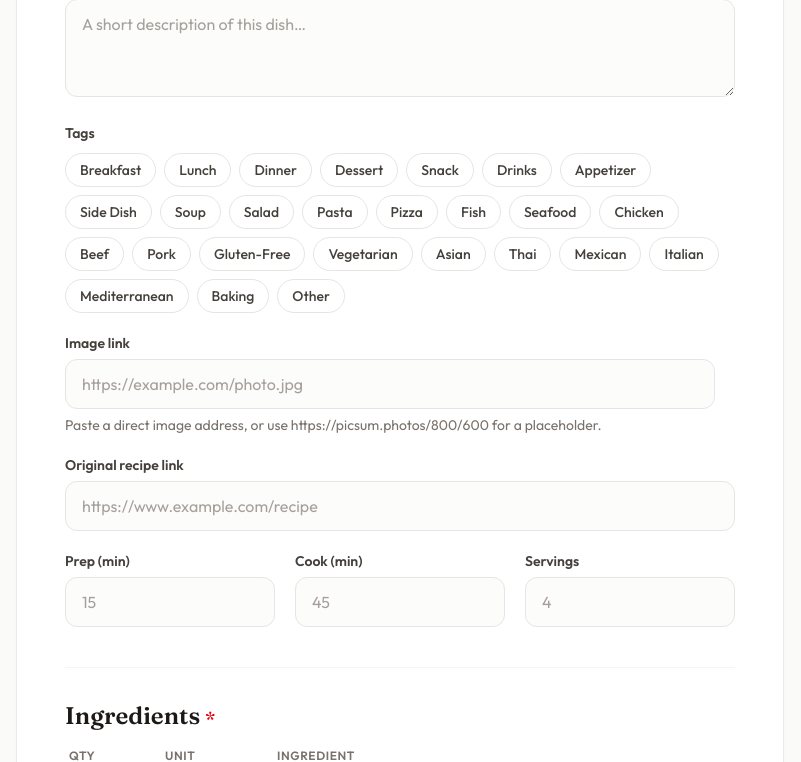
Scenario: new recipe › shows inline validation errors and does not submit
(page scrolled)
Type "javascript:alert(1)" into the field labelled "Image link" at (390, 384), box [65,359,715,409]
(page scrolled)
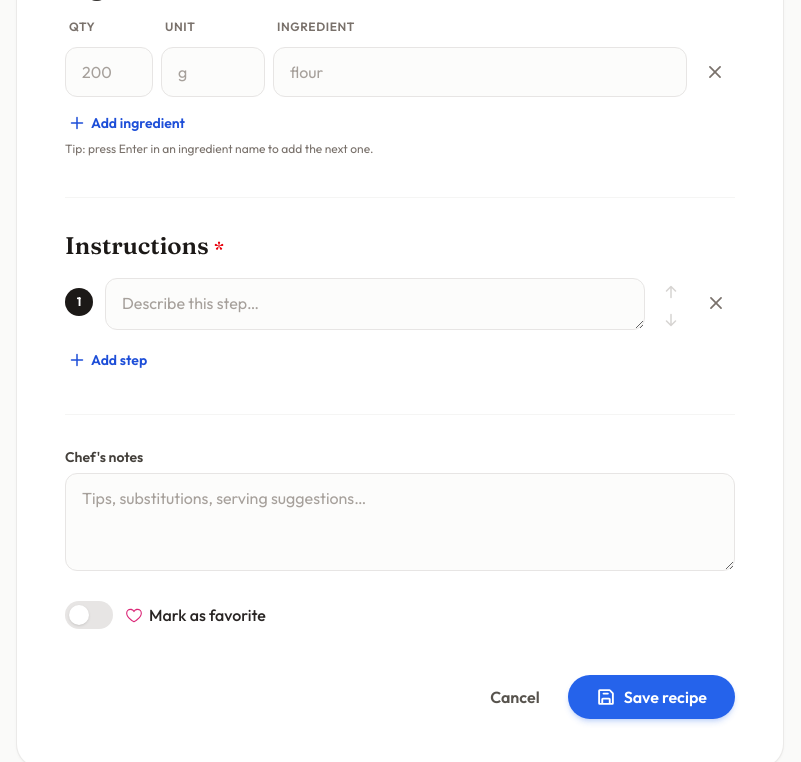
Click the button "Save recipe" at (651, 697), box [568,675,735,719]
(page scrolled)
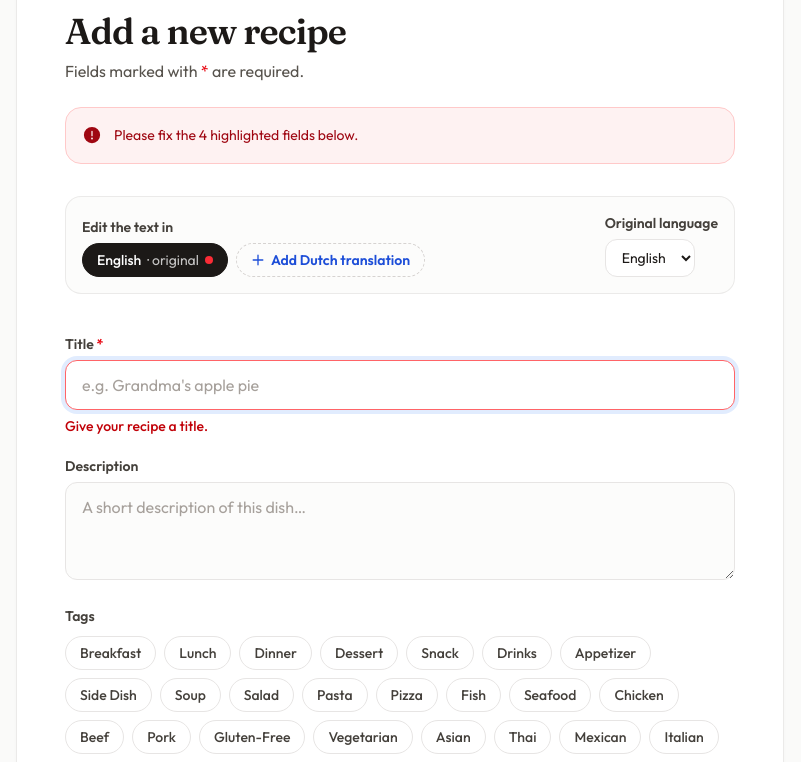
Result: the text "Give your recipe a title." is shown at [65,417,208,435]
